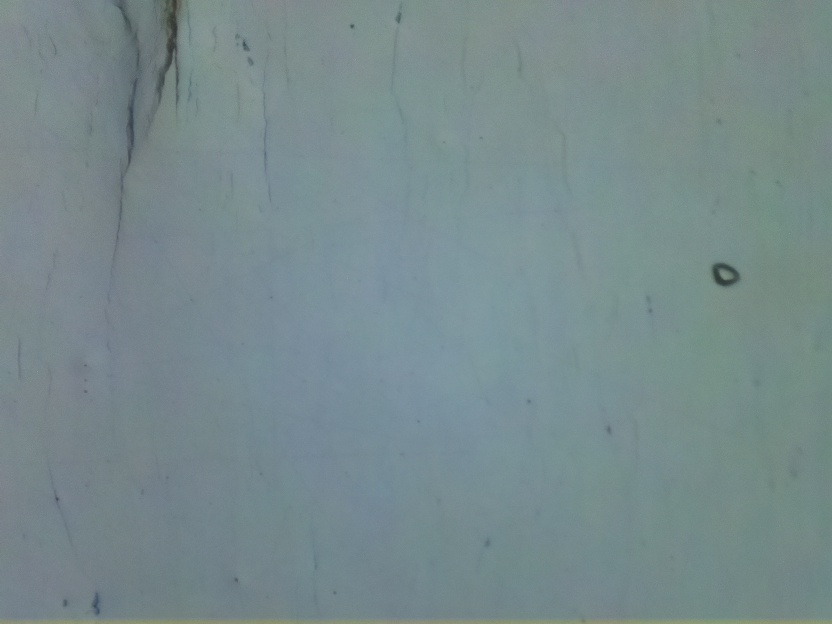crack: (153, 0, 194, 105)
